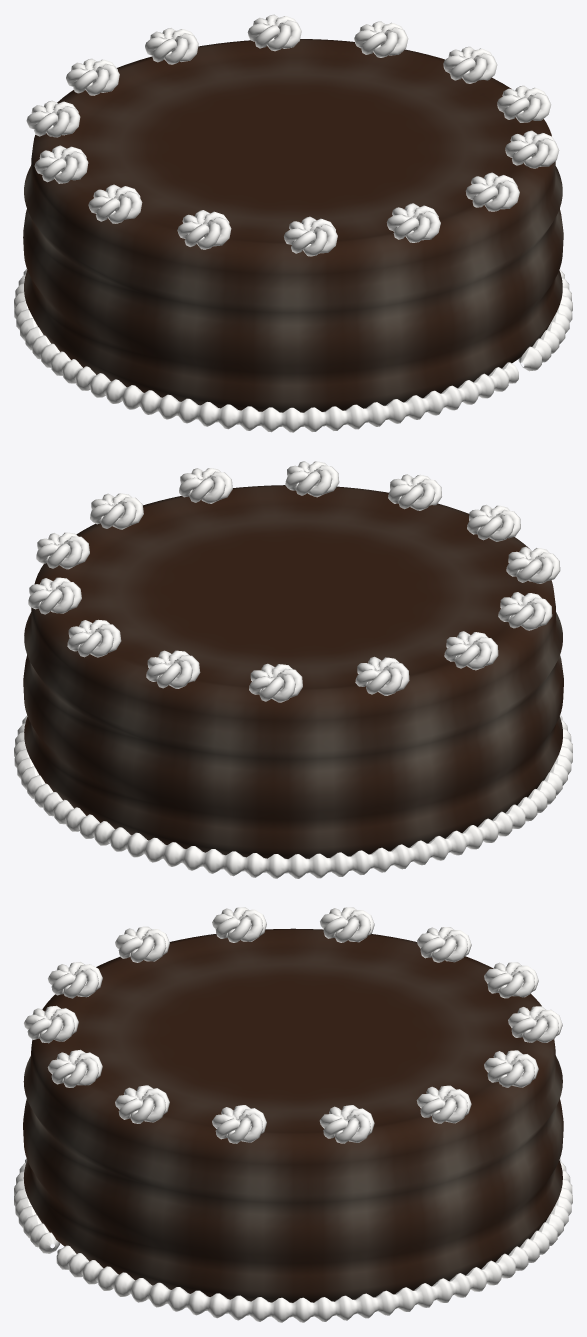
Rendered from cake.glb.
3 views of the same model, one above another, from view 1: azimuth 30°, elevation 25°; view 2: azimuth 150°, elevation 25°; view 3: azimuth 270°, elevation 25° (orthographic).
Bounding box in the file's own units: 0.2644 × 0.1034 × 0.2643.
